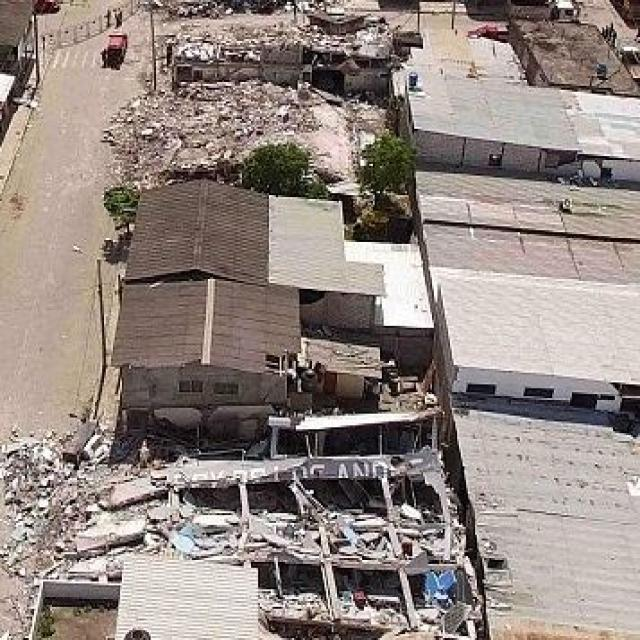collapsed_building: (5, 430, 466, 628), (127, 84, 405, 199), (165, 27, 391, 84)
